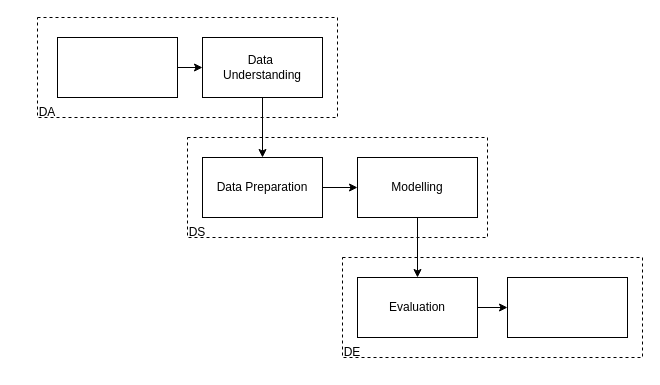
The diagram is 660 pixels wide and 385 high, and some of its shapes have lost their labels. Each missing label, with the centre of its shape:
"Business Understanding" goes at point 117,67.
"Deployment" goes at point 567,307.
